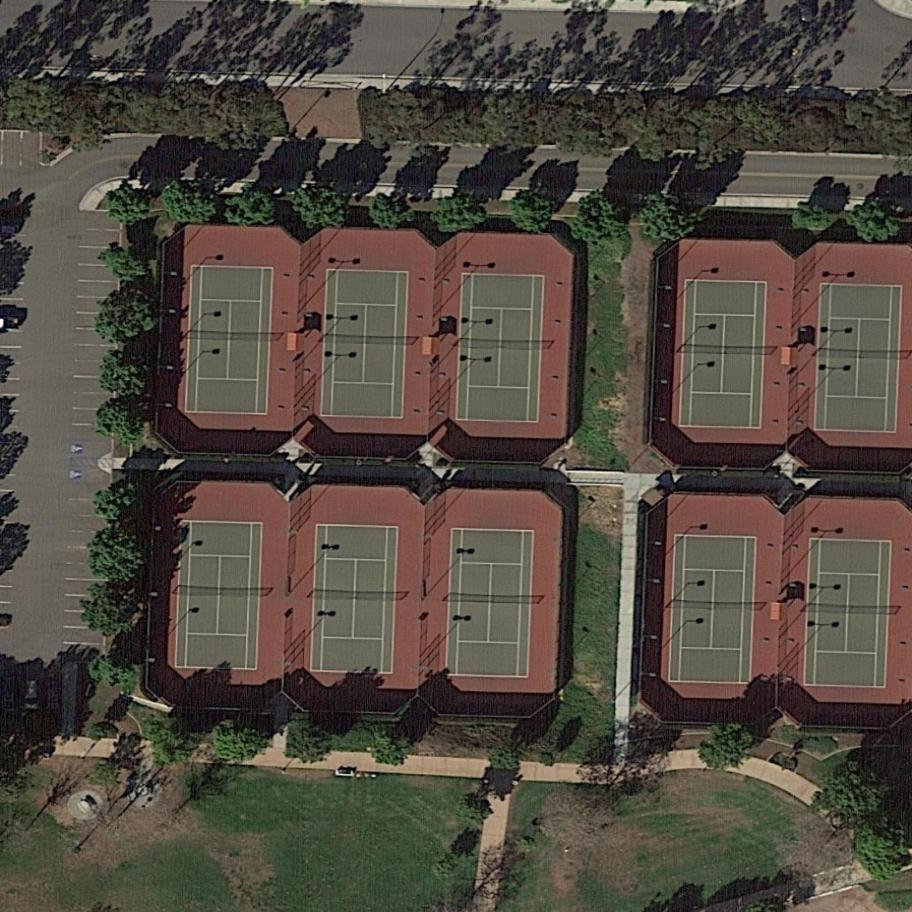small-vehicle: (21, 677, 42, 713)
